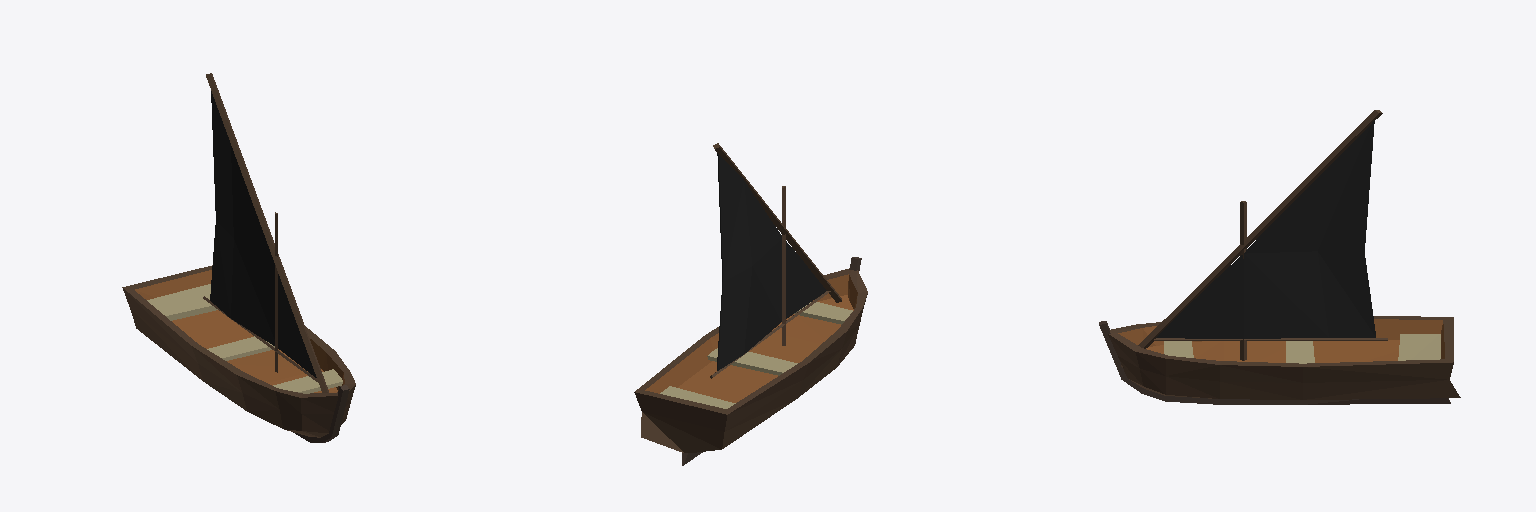
The picture shows the model from 3 angles: view 1: azimuth 30°, elevation 25°; view 2: azimuth 150°, elevation 25°; view 3: azimuth 270°, elevation 25°; orthographic projection.
Parts seen in each view (by area): view 1: Body, Sail, Mast; view 2: Body, Sail, Mast; view 3: Body, Sail, Mast.
Part boxes in pixels (left/top/right/bottom): Body: left=122, top=265, right=355, bottom=442; Sail: left=210, top=91, right=316, bottom=377; Mast: left=203, top=73, right=328, bottom=392; Body: left=634, top=257, right=867, bottom=465; Sail: left=717, top=153, right=826, bottom=370; Mast: left=710, top=143, right=841, bottom=378; Body: left=1099, top=316, right=1460, bottom=404; Sail: left=1156, top=120, right=1375, bottom=338; Mast: left=1121, top=110, right=1387, bottom=367.
Size of the model in its own units: 33.12 by 87.59 by 97.47.
Materials: 1 (1 with a texture image).